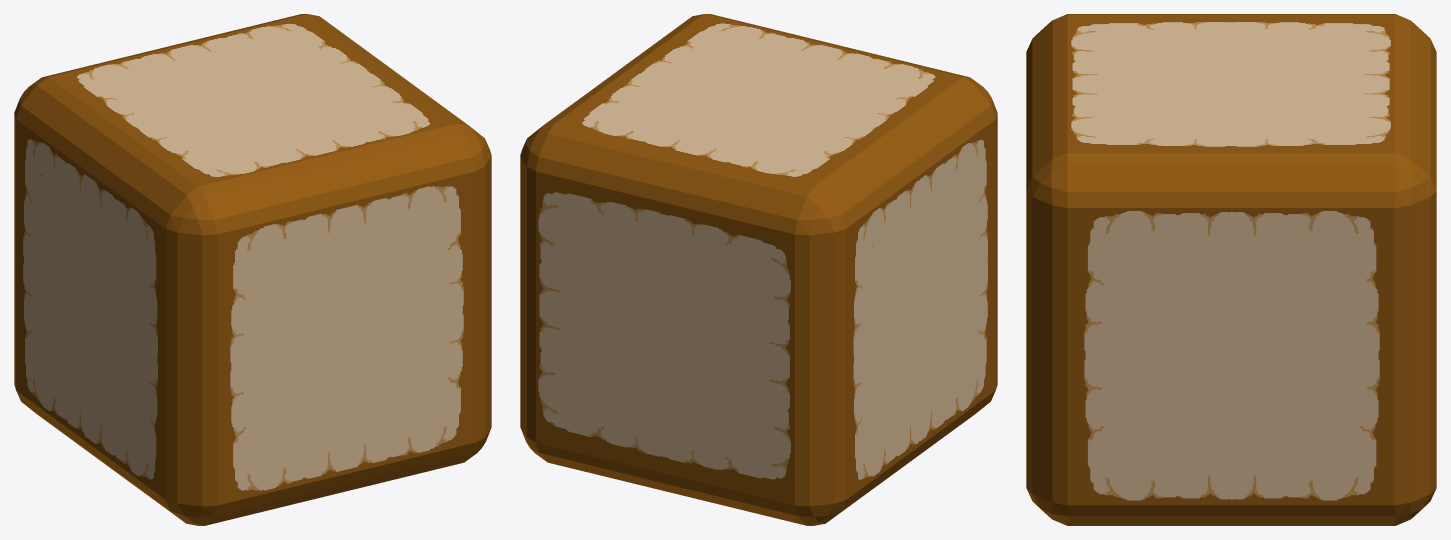
The model's file is Floor.gltf.
The picture shows the model from 3 angles, left to right: view 1: azimuth 30°, elevation 25°; view 2: azimuth 150°, elevation 25°; view 3: azimuth 270°, elevation 25°; orthographic projection. The views are drawn at different scales.
Visible parts, largest first — view 1: Cube.001; view 2: Cube.001; view 3: Cube.001.
Part boxes in pixels (<box>): Cube.001: <box>14,14,491,525</box>; Cube.001: <box>520,14,997,525</box>; Cube.001: <box>1026,14,1436,525</box>.
Bounding box in the file's own units: 2 × 2 × 2.
1 material, 1 textured.
